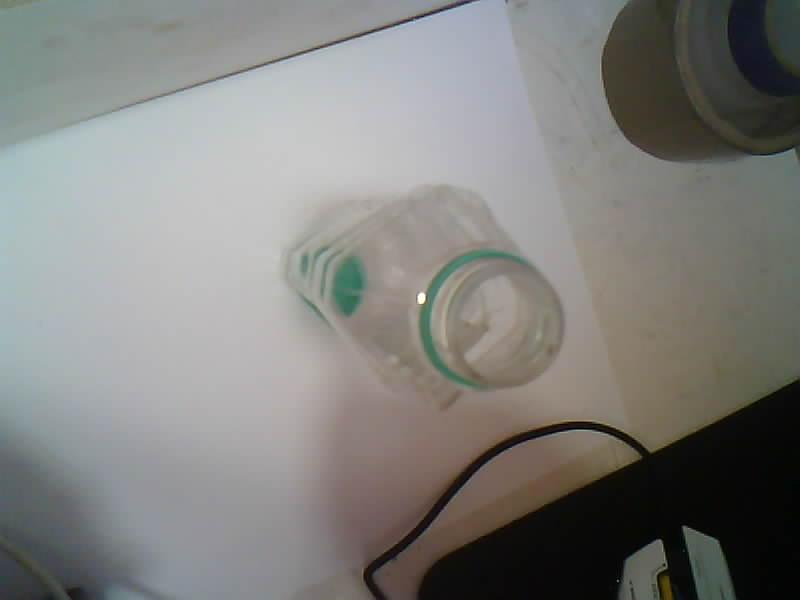non-biodegradable: (285, 185, 564, 406)
